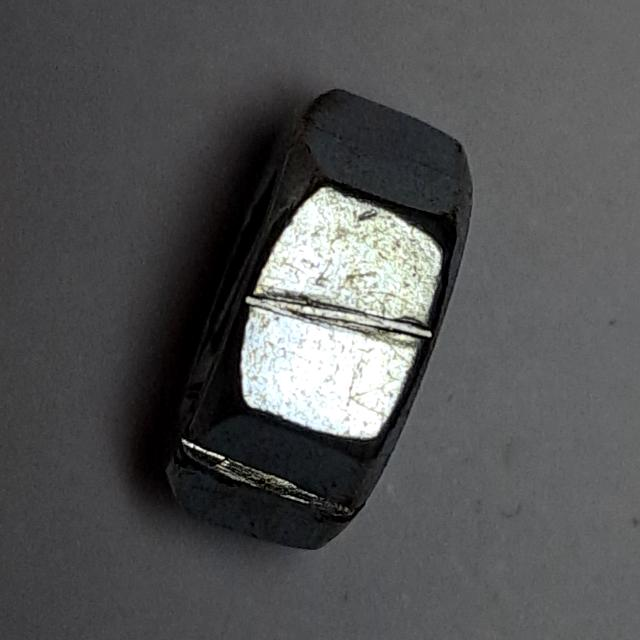Side_Scratches: (143, 72, 485, 565)
